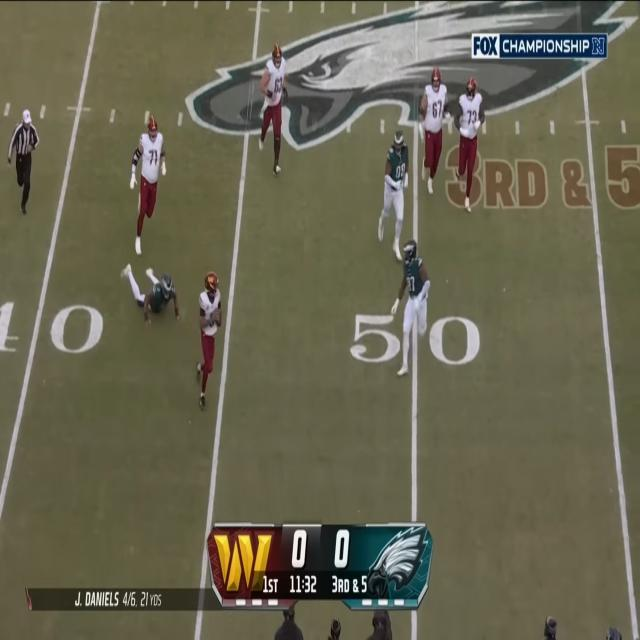Ball: (215, 305, 222, 329)
